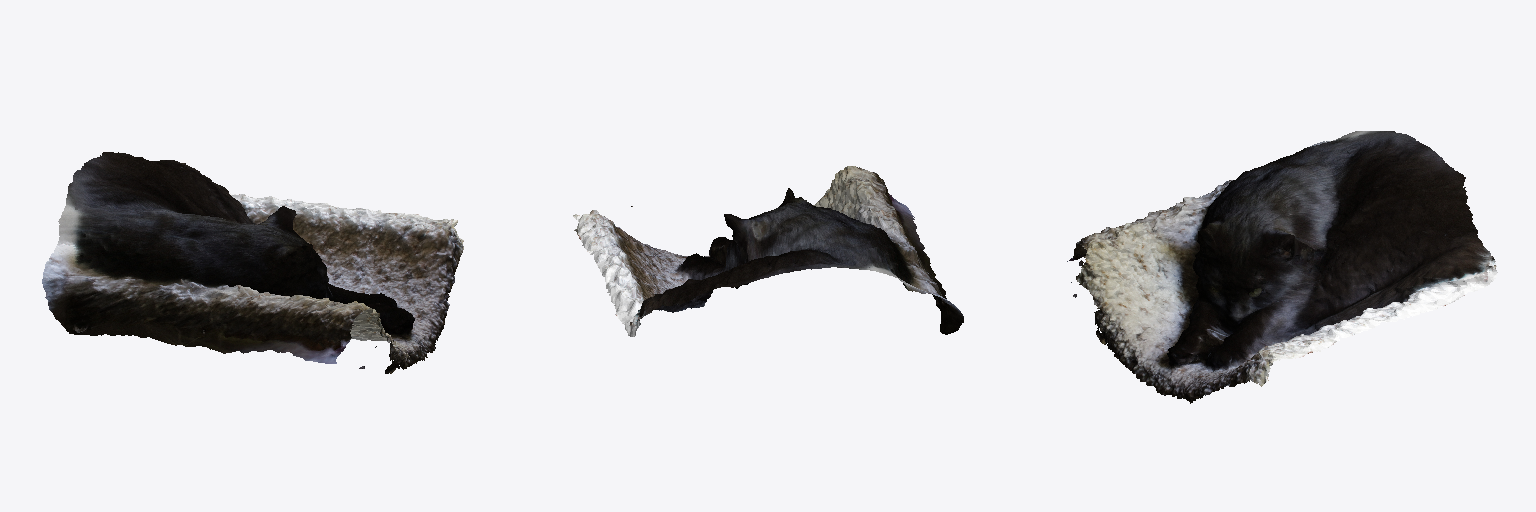
The picture shows the model from 3 angles: view 1: azimuth 30°, elevation 25°; view 2: azimuth 150°, elevation 25°; view 3: azimuth 270°, elevation 25°; orthographic projection.
Visible parts, largest first — view 1: bees_tree; view 2: bees_tree; view 3: bees_tree.
Part boxes in pixels (left/top/right/bottom): bees_tree: left=42, top=152, right=463, bottom=373; bees_tree: left=573, top=166, right=963, bottom=336; bees_tree: left=1067, top=131, right=1497, bottom=403.
Bounding box in the file's own units: 8.65 × 3.33 × 8.08.
Materials: 1 (1 with a texture image).